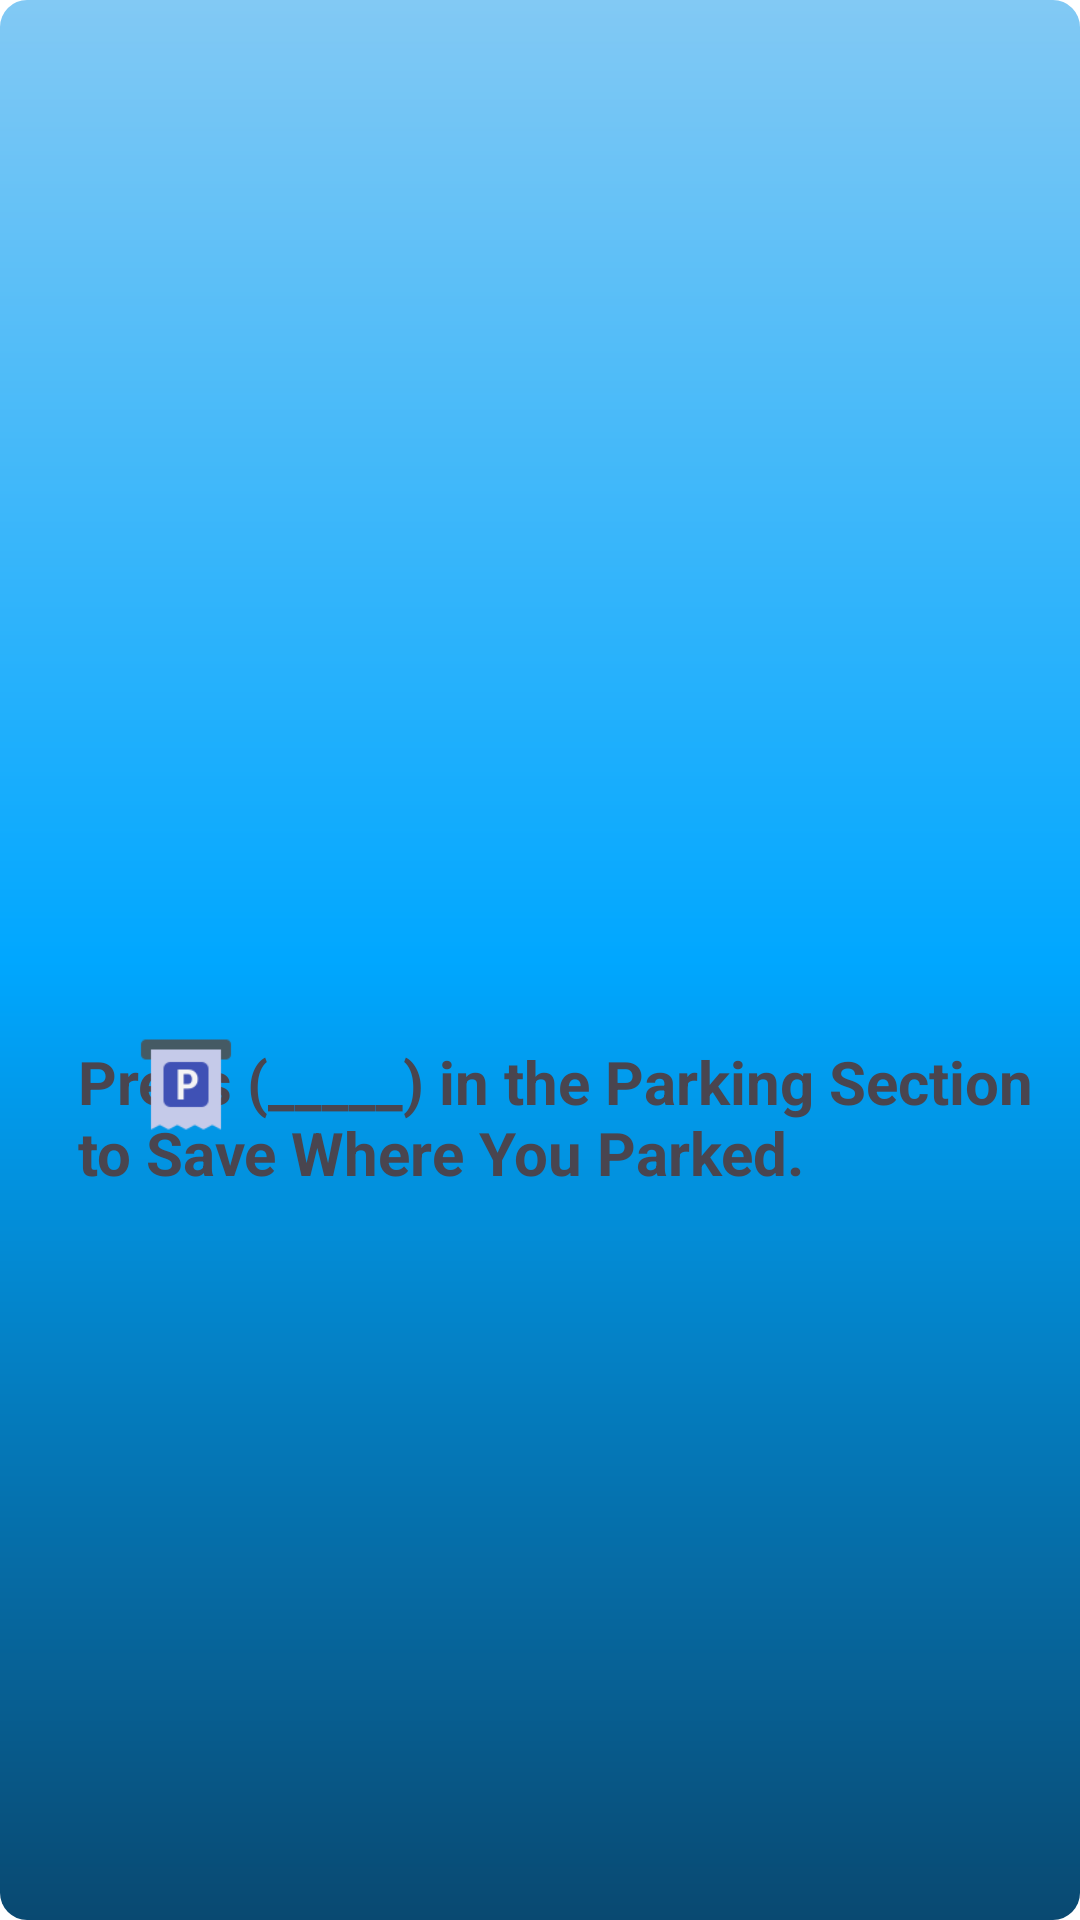

Where to tap for icons on this 1080 x 1920 app screen, as (x,y):
parking ticket: (185,1084)
